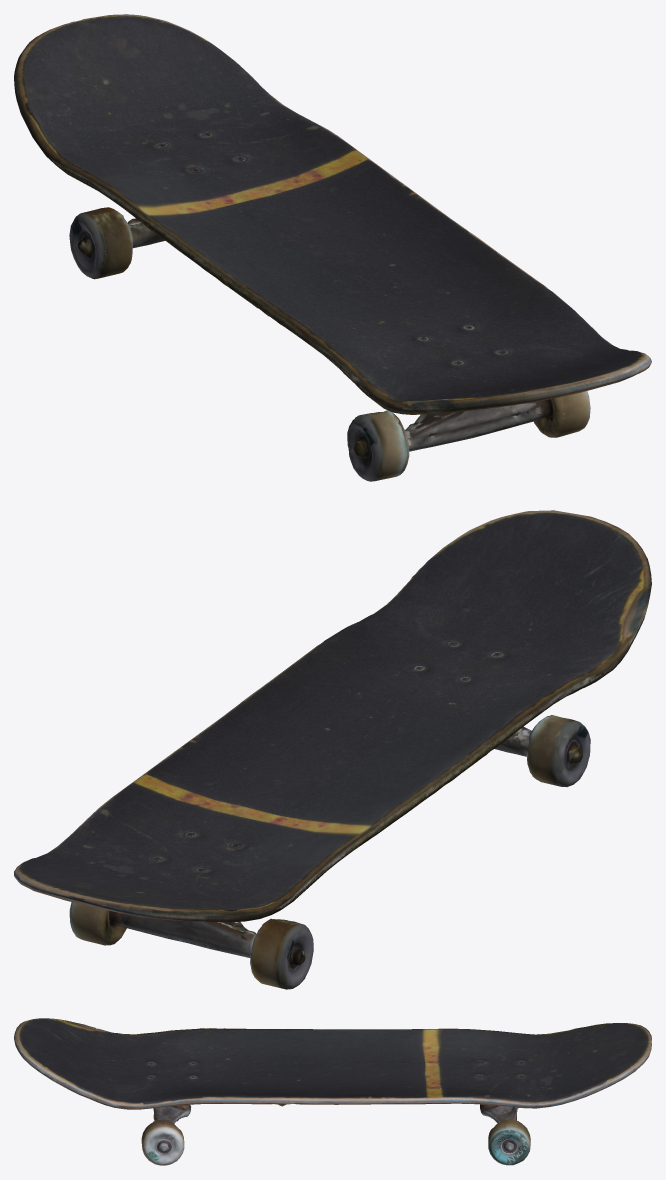
The model's file is board.glb.
The picture shows the model from 3 angles, top to bottom: view 1: azimuth 30°, elevation 25°; view 2: azimuth 150°, elevation 25°; view 3: azimuth 270°, elevation 25°; orthographic projection. The views are drawn at different scales.
Parts seen in each view (by area): view 1: board; view 2: board; view 3: board.
Boxes of the visible parts, left/top/right/bottom form: board: left=14, top=14, right=651, bottom=481; board: left=14, top=510, right=651, bottom=989; board: left=14, top=1018, right=651, bottom=1165.
Size of what is drawn, in the model's own units: 0.529 by 0.3444 by 2.
1 material, 1 textured.
